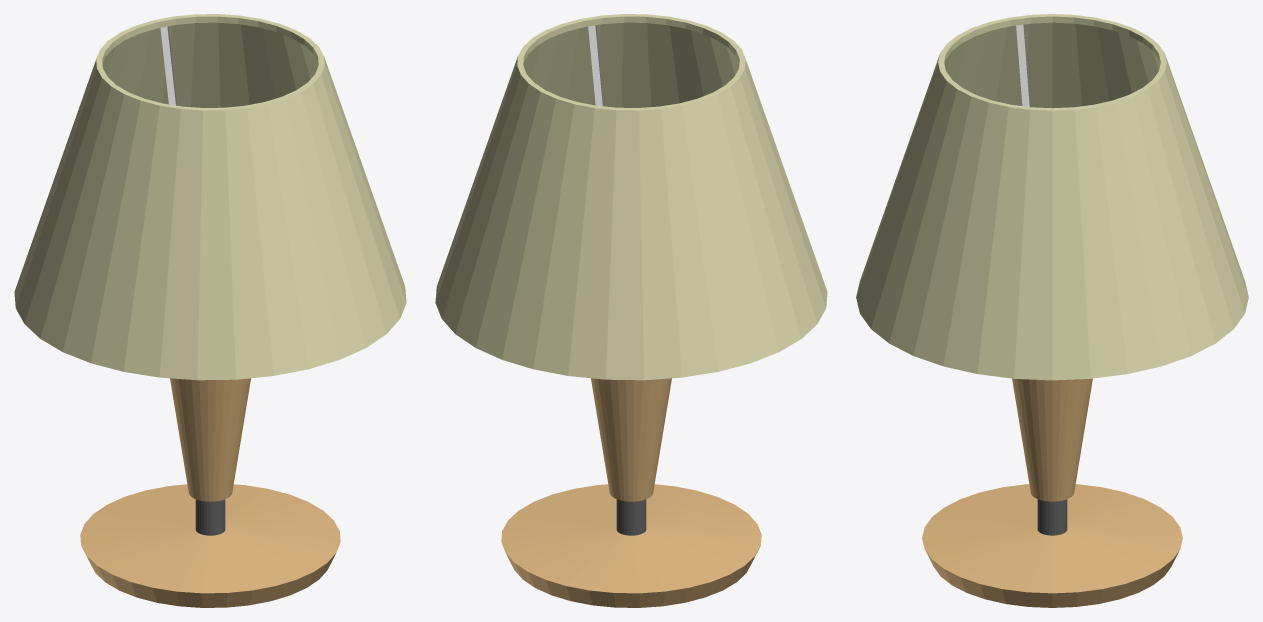
Rendered from sweethome3d-scopia-little-lamp-55.glb.
The picture shows the model from 3 angles, left to right: view 1: azimuth 30°, elevation 25°; view 2: azimuth 150°, elevation 25°; view 3: azimuth 270°, elevation 25°; orthographic projection.
Parts seen in each view (by area): view 1: lamp1_Circle.001_lampshade_multilamps.jpg, lamp1_Circle.001_wood, lamp1_Circle.001_metall_brush, lamp1_Circle.001_whitesop; view 2: lamp1_Circle.001_lampshade_multilamps.jpg, lamp1_Circle.001_wood, lamp1_Circle.001_metall_brush, lamp1_Circle.001_whitesop; view 3: lamp1_Circle.001_lampshade_multilamps.jpg, lamp1_Circle.001_wood, lamp1_Circle.001_metall_brush, lamp1_Circle.001_whitesop.
Part boxes in pixels (bbox=[...]): lamp1_Circle.001_lampshade_multilamps.jpg: bbox=[14, 14, 406, 380]; lamp1_Circle.001_wood: bbox=[80, 378, 340, 607]; lamp1_Circle.001_metall_brush: bbox=[195, 499, 225, 535]; lamp1_Circle.001_whitesop: bbox=[160, 26, 177, 105]; lamp1_Circle.001_lampshade_multilamps.jpg: bbox=[435, 14, 827, 380]; lamp1_Circle.001_wood: bbox=[501, 378, 761, 607]; lamp1_Circle.001_metall_brush: bbox=[616, 499, 646, 535]; lamp1_Circle.001_whitesop: bbox=[588, 25, 603, 106]; lamp1_Circle.001_lampshade_multilamps.jpg: bbox=[856, 14, 1248, 380]; lamp1_Circle.001_wood: bbox=[922, 378, 1182, 607]; lamp1_Circle.001_metall_brush: bbox=[1037, 499, 1067, 535]; lamp1_Circle.001_whitesop: bbox=[1016, 24, 1030, 107].
Size of what is drawn, in the model's own units: 0.3094 by 0.4297 by 0.3094.
